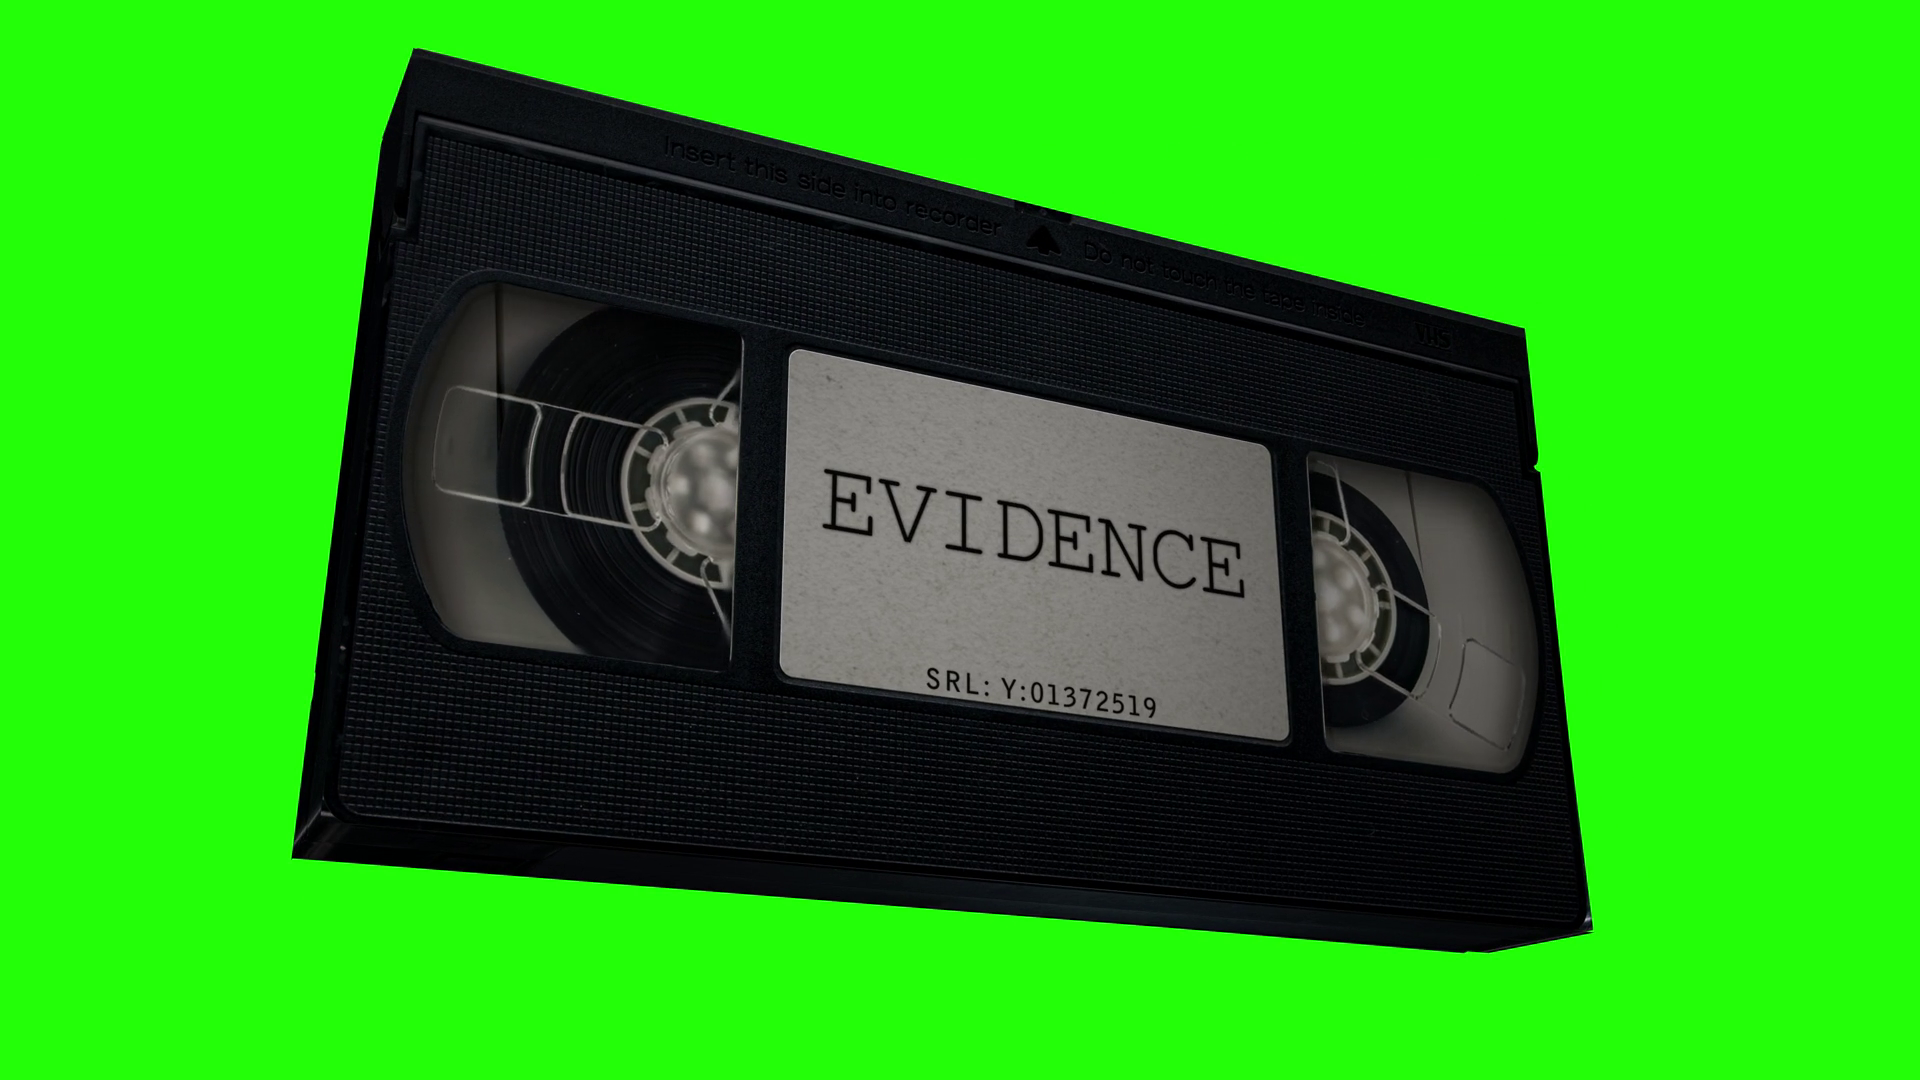Nonrec_Other: (273, 18, 1615, 981)
